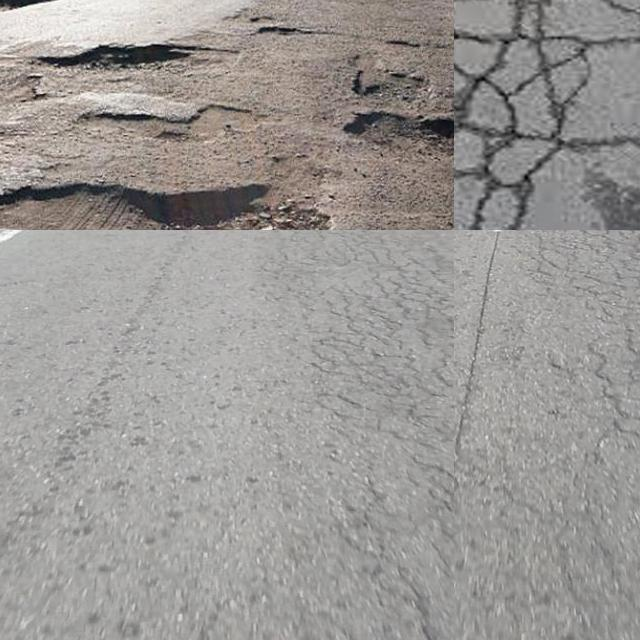Lubang: (0, 175, 348, 230), (345, 105, 454, 169), (32, 41, 202, 80), (0, 69, 44, 110)
Retak Buaya: (264, 230, 454, 640), (503, 230, 640, 554), (454, 0, 571, 230)
